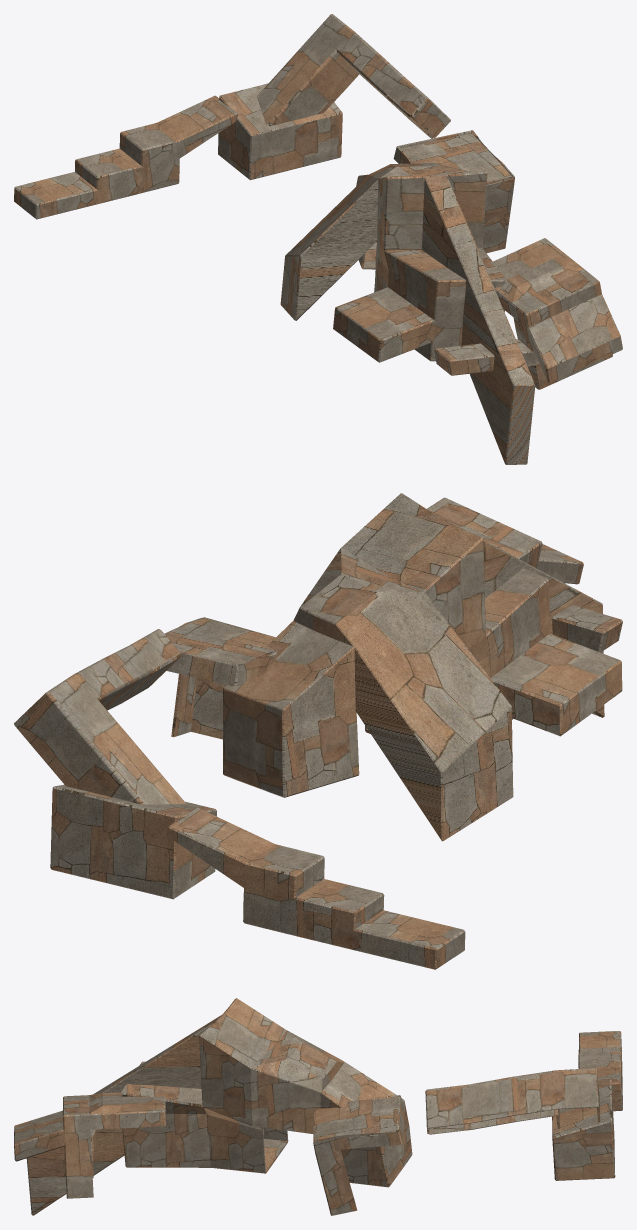
Rendered from gym1.glb.
3 renders of one model, top to bottom at view 1: azimuth 30°, elevation 25°; view 2: azimuth 150°, elevation 25°; view 3: azimuth 270°, elevation 25°, orthographic. The views are drawn at different scales.
Parts seen in each view (by area): view 1: doors.002; view 2: doors.002; view 3: doors.002.
Boxes of the visible parts, x1,y1,x2,y2 form: doors.002: [14, 14, 622, 464]; doors.002: [14, 493, 622, 969]; doors.002: [14, 998, 622, 1215].
Size of the model in its own units: 19.28 by 11.65 by 31.56.
Materials: 1 (1 with a texture image).
